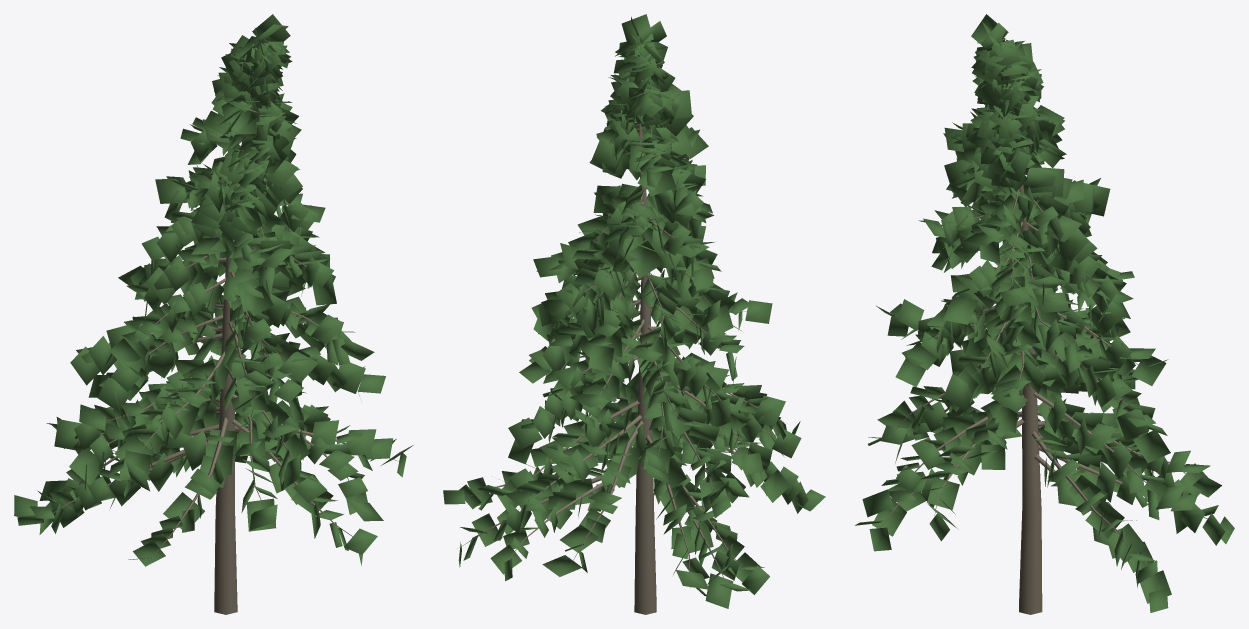
Rendered from pine_realistic_a.glb.
3 views of the same model, side by side, from view 1: azimuth 30°, elevation 25°; view 2: azimuth 150°, elevation 25°; view 3: azimuth 270°, elevation 25° (orthographic). The views are drawn at different scales.
Parts seen in each view (by area): view 1: RealisticCutoutFoliage, RealisticBarkBranches; view 2: RealisticCutoutFoliage, RealisticBarkBranches; view 3: RealisticCutoutFoliage, RealisticBarkBranches.
Part boxes in pixels (x1=…): RealisticCutoutFoliage: x1=14, y1=14, x2=413, y2=566; RealisticBarkBranches: x1=37, y1=108, x2=398, y2=614; RealisticCutoutFoliage: x1=443, y1=14, x2=825, y2=608; RealisticBarkBranches: x1=459, y1=123, x2=783, y2=614; RealisticCutoutFoliage: x1=855, y1=14, x2=1234, y2=612; RealisticBarkBranches: x1=876, y1=150, x2=1224, y2=614.
Size of the model in its own units: 29.49 by 51.72 by 29.65.
